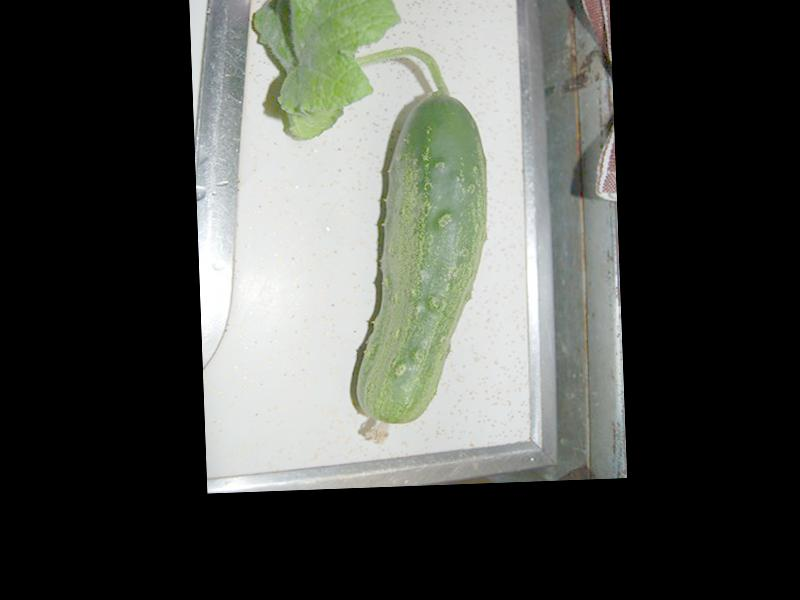Cucumber: (343, 88, 497, 445)
